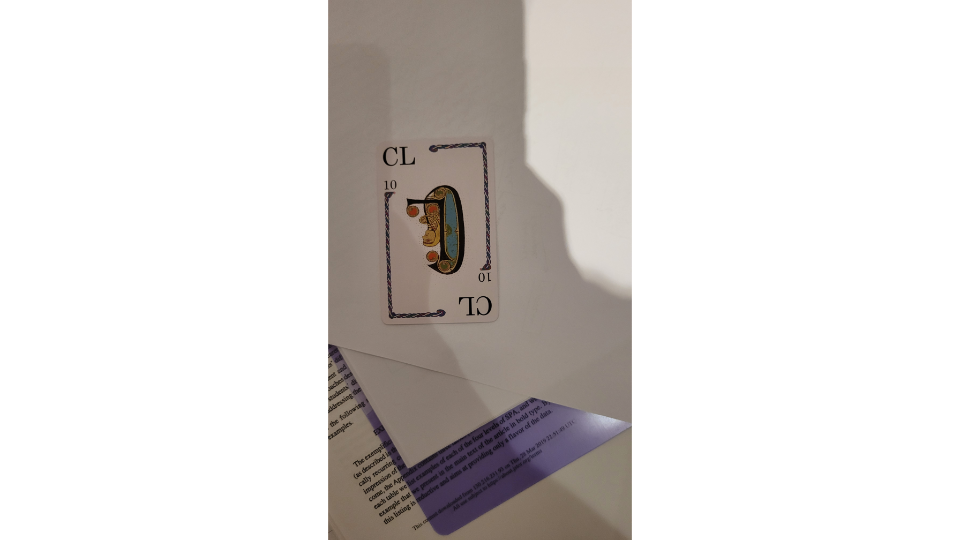CL: (372, 134, 503, 326)
